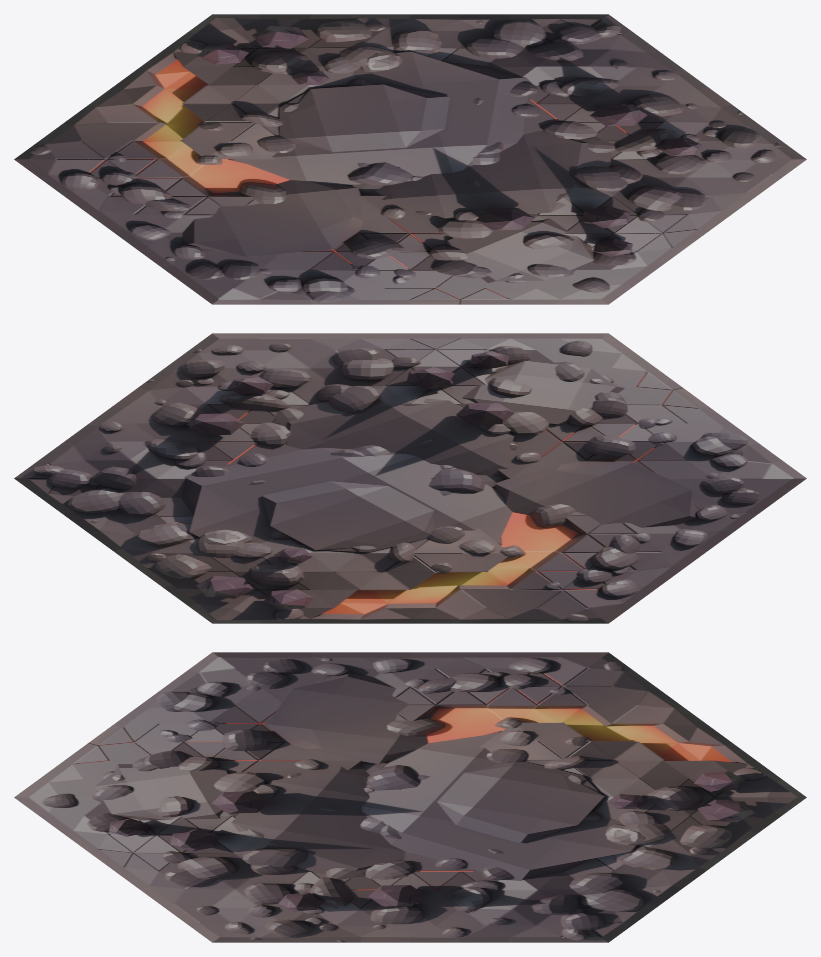
Rendered from scorched.glb.
3 renders of one model, top to bottom at view 1: azimuth 30°, elevation 25°; view 2: azimuth 150°, elevation 25°; view 3: azimuth 270°, elevation 25°, orthographic.
Parts seen in each view (by area): view 1: Deciduousforest_flat; view 2: Deciduousforest_flat; view 3: Deciduousforest_flat.
Part boxes in pixels (x1,y1,x2,y2): Deciduousforest_flat: (14, 14, 806, 304); Deciduousforest_flat: (14, 333, 806, 623); Deciduousforest_flat: (14, 652, 806, 942).
Bounding box in the file's own units: 1.73 × 0 × 2.
1 material, 1 textured.
